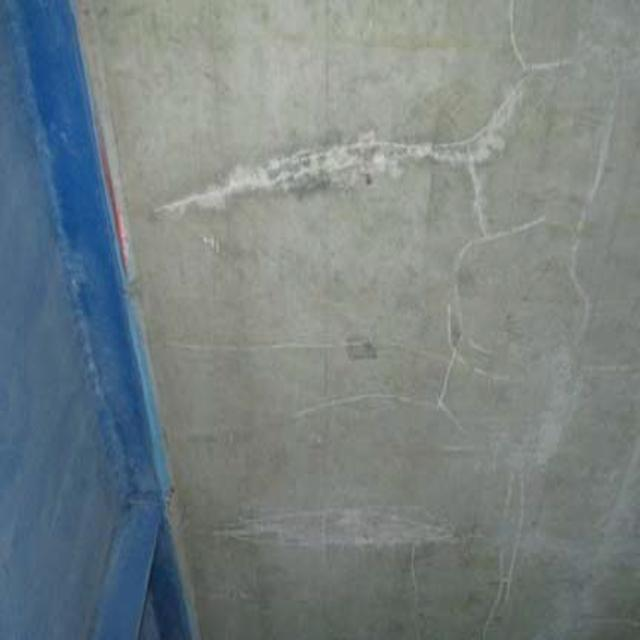freelime: (159, 67, 557, 230)
